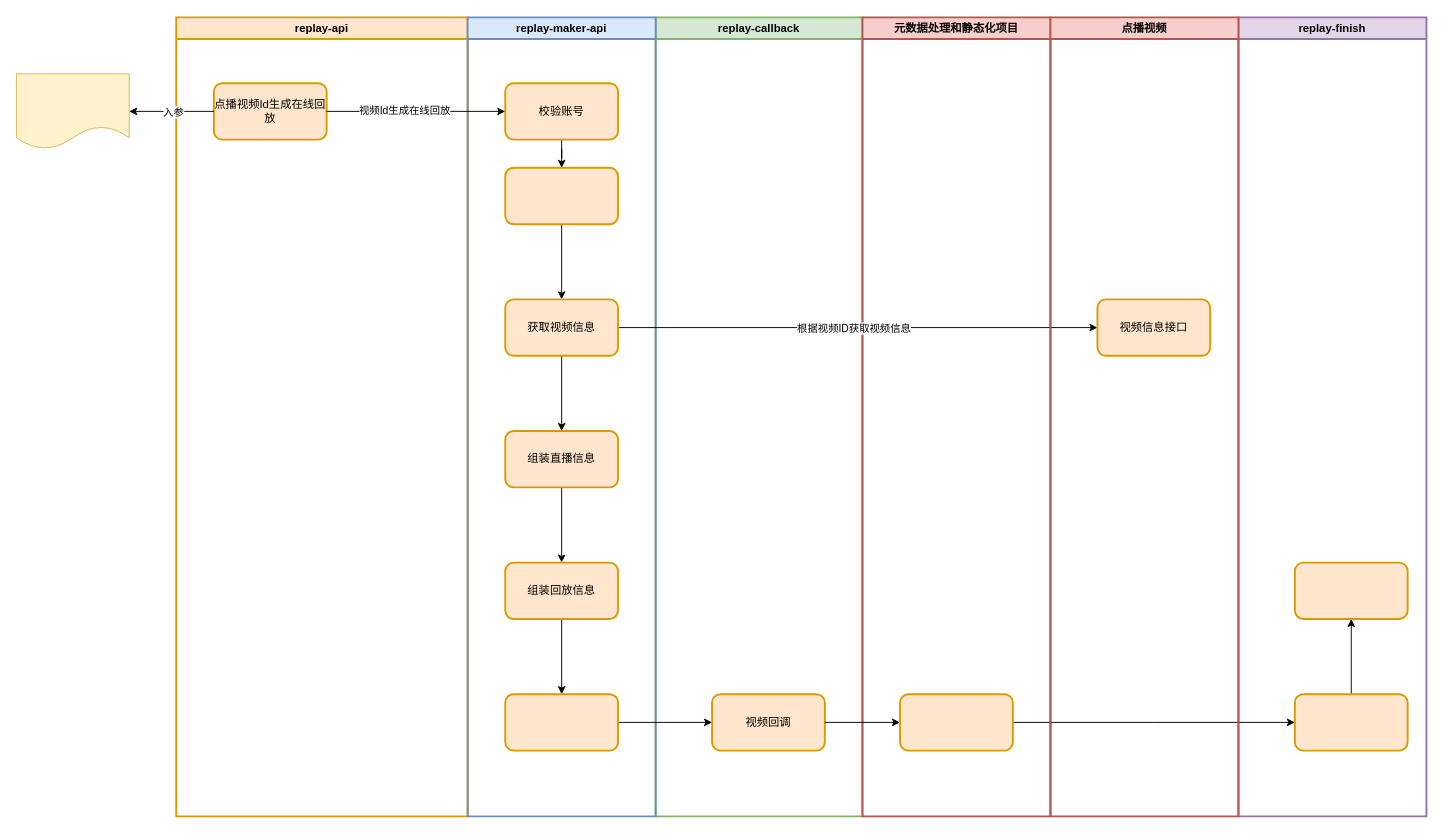
This 1444x833 diagram has some shape labels left out. The centre of each missing label's shape, as x and y in pixels:
cc账号ID、直播间Id、视频ID、视频标题、开始直播时间: [72,111]
元数据处理: [956,722]
回调业务: [1350,590]
完成: [1350,722]
校验房间ID: [561,195]
模拟点播转码视频回调: [561,722]
